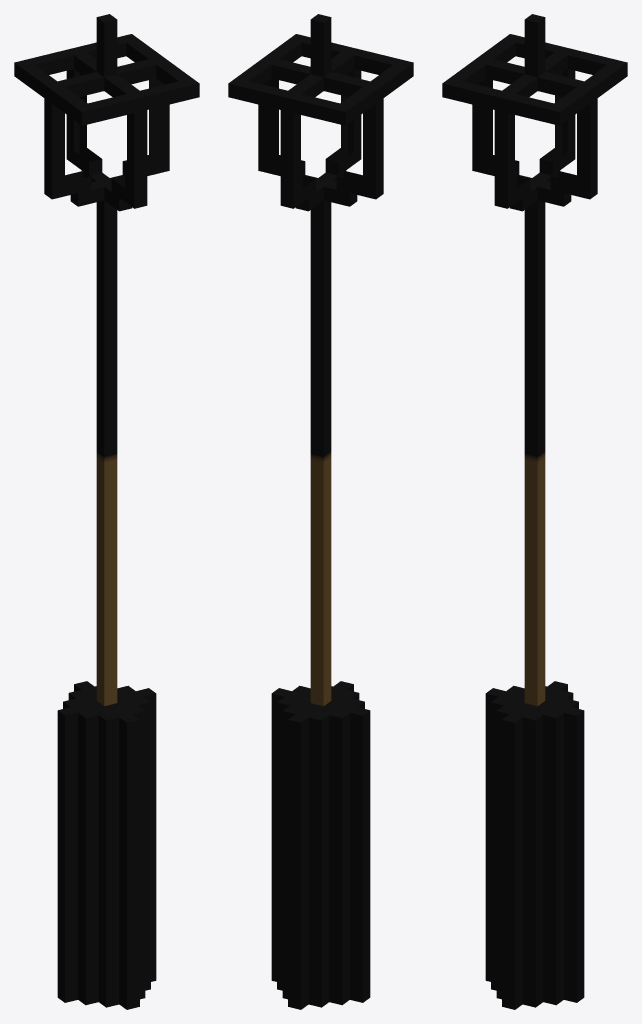
Rendered from townLight.dae.
3 renders of one model, left to right at view 1: azimuth 30°, elevation 25°; view 2: azimuth 150°, elevation 25°; view 3: azimuth 330°, elevation 25°, orthographic.
Parts seen in each view (by area): view 1: pl0; view 2: pl0; view 3: pl0.
Part boxes in pixels (x1,y1,x2,y2): pl0: [14, 14, 199, 1009]; pl0: [228, 14, 413, 1009]; pl0: [442, 14, 627, 1009].
Size of the model in its own units: 9 by 9 by 71.
